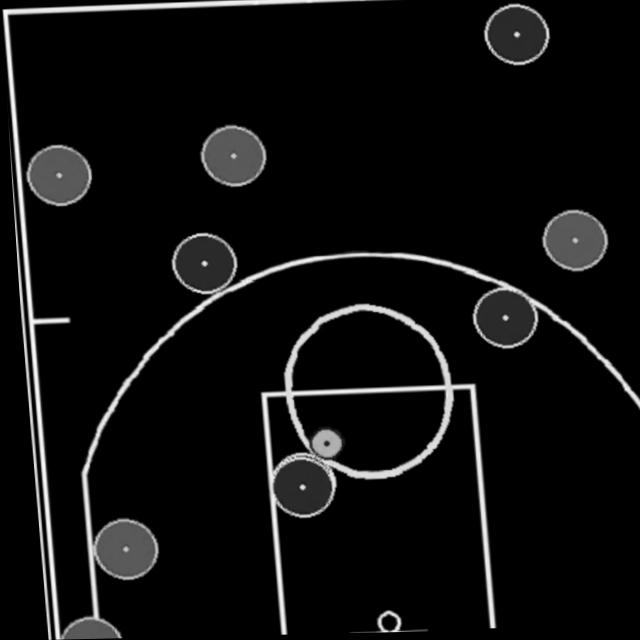Basketball: (302, 427, 340, 461)
Team_A: (480, 4, 551, 68), (259, 455, 327, 521), (166, 232, 235, 296), (263, 453, 331, 517), (466, 289, 534, 351)
Team_B: (196, 124, 266, 188), (537, 211, 605, 275), (22, 144, 92, 206), (83, 518, 151, 581), (48, 617, 113, 640)
